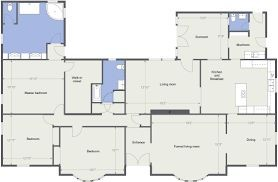room: (151, 114, 230, 176), (131, 59, 204, 117), (65, 115, 132, 175), (204, 64, 275, 117), (66, 61, 130, 118), (3, 59, 65, 116), (5, 116, 61, 167), (230, 113, 276, 166)
wall: (176, 10, 253, 15), (122, 60, 128, 116), (82, 124, 129, 130), (63, 56, 108, 62), (1, 111, 54, 116), (123, 125, 128, 176), (273, 90, 278, 132), (116, 57, 149, 63), (1, 57, 50, 61), (63, 111, 102, 116), (63, 69, 67, 115), (237, 112, 275, 116), (1, 44, 4, 94), (240, 58, 277, 62), (151, 172, 175, 178), (198, 60, 203, 88), (28, 164, 61, 168), (149, 113, 153, 144), (272, 58, 278, 78), (90, 81, 93, 115), (191, 113, 225, 116), (227, 29, 247, 34), (1, 1, 4, 34), (224, 152, 228, 176), (225, 113, 229, 136), (2, 163, 17, 169), (105, 173, 127, 177), (51, 125, 73, 129), (264, 11, 267, 39), (51, 144, 55, 165), (88, 81, 103, 86), (274, 144, 277, 169), (111, 101, 125, 106), (60, 173, 74, 178), (1, 134, 3, 167), (45, 44, 49, 60), (226, 164, 247, 167), (226, 25, 230, 40), (149, 162, 153, 177), (59, 127, 62, 147), (227, 46, 231, 60), (113, 112, 126, 116), (114, 88, 126, 92), (259, 164, 275, 167), (52, 142, 60, 148), (1, 103, 3, 123), (92, 101, 102, 105), (194, 58, 207, 61)
